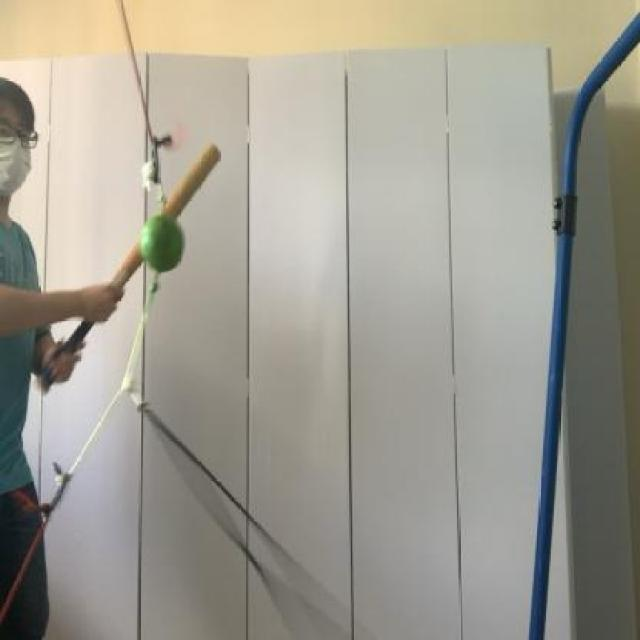baseball: (132, 204, 196, 284)
